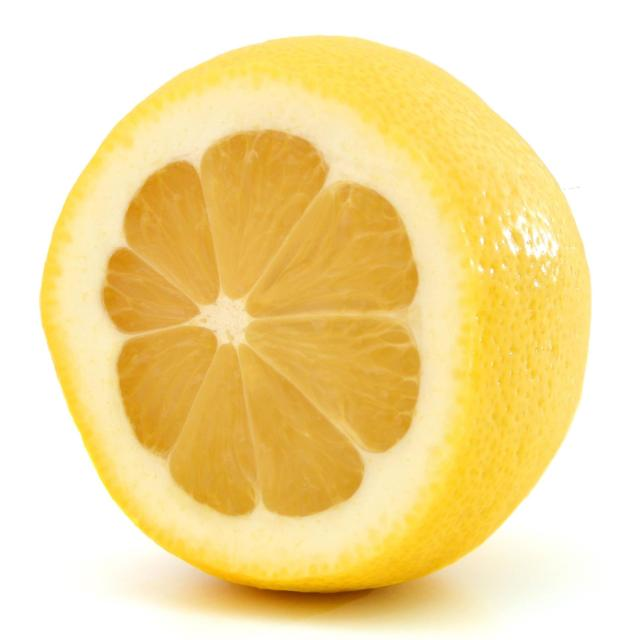lemon: (28, 29, 610, 606)
